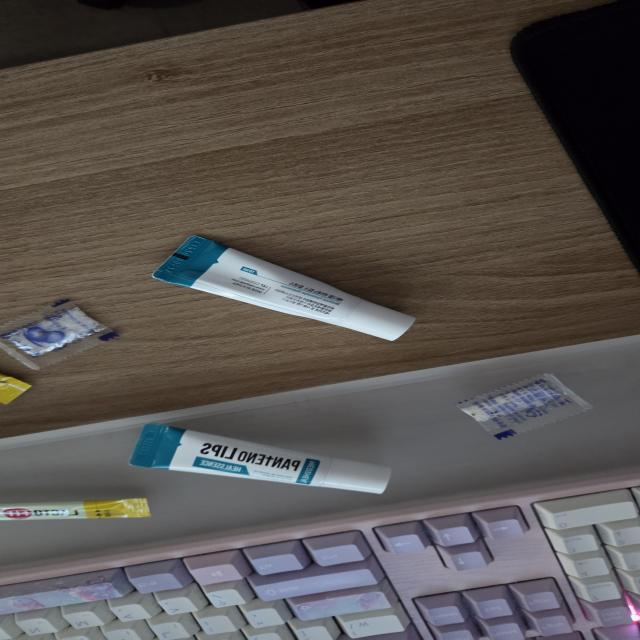lacto: (0, 496, 150, 520), (0, 374, 32, 406)
lib: (152, 234, 418, 343), (116, 420, 412, 497)
salt: (455, 370, 590, 440), (2, 298, 120, 371)
